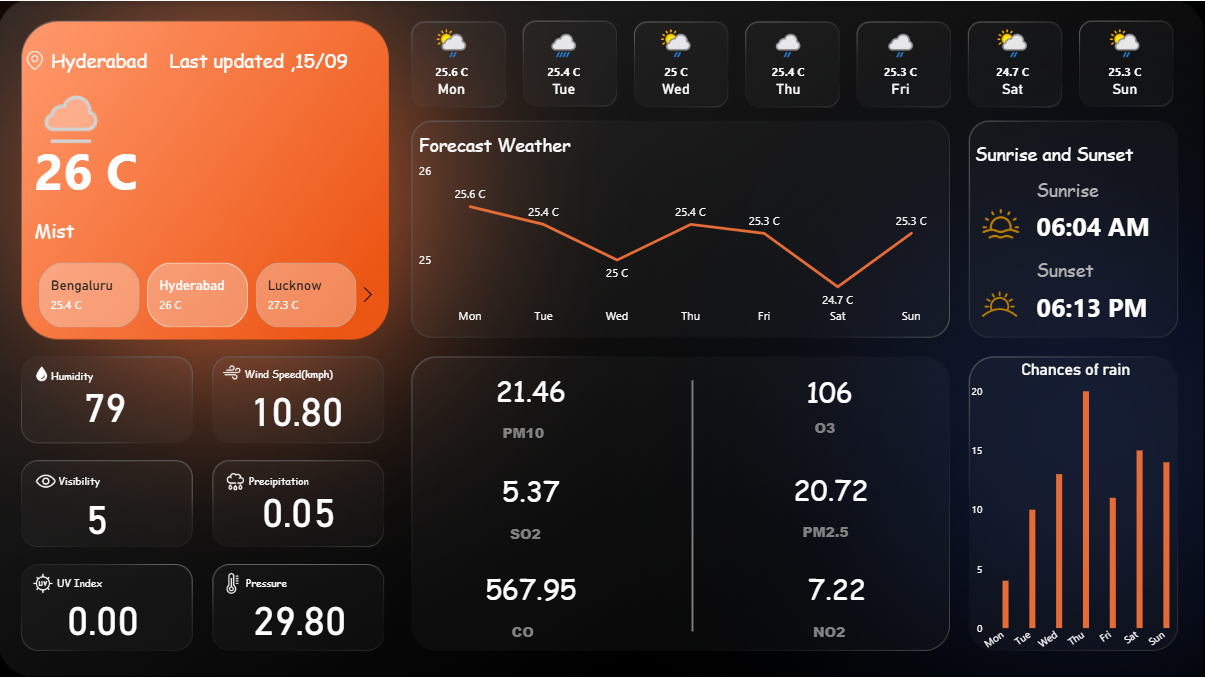

The page's visual inventory and layout, read from the dashboard file:
{"tool":"powerbi","page":{"name":"Page 1","canvas":[1280,720],"ordinal":0},"visuals":[{"type":"advancedSlicerVisual","fields":{"Values":["location.location.name"]},"box":[18.9,272.1,389.3,79.4],"z":0},{"type":"shape","box":[39.7,139.8,281.6,75.6],"z":1000},{"type":"shape","box":[39.7,219.2,360.9,47.2],"z":2000},{"type":"shape","box":[56.7,39.7,126.6,47.2],"z":3000},{"type":"shape","box":[183.3,41.6,224.9,43.5],"z":4000},{"type":"image","box":[13.2,47.2,54.8,30.2],"z":5000},{"type":"cardVisual","fields":{"Data":["Min(current.current.condition.icon)"]},"box":[18.9,62.4,115.3,100.2],"z":6000},{"type":"image","box":[25,491,52,35],"z":7000},{"type":"image","box":[227,493,51,33],"z":8000},{"type":"image","box":[27,382,41,27],"z":9000},{"type":"image","box":[227,379,43,30],"z":10000},{"type":"image","box":[27,601,43,32],"z":11000},{"type":"image","box":[227,601,45,32],"z":12000},{"type":"shape","box":[58,388,91,18],"z":13000},{"type":"shape","box":[262.5,385.5,135.8,20.2],"z":14000},{"type":"shape","box":[264,608,91,18],"z":15000},{"type":"shape","box":[63,608,91,18],"z":16000},{"type":"shape","box":[268,499,91,18],"z":17000},{"type":"shape","box":[66,500,91,18],"z":18000},{"type":"cardVisual","fields":{"Data":["Sum(current.current.humidity)"]},"box":[75,381.7,105,81.7],"z":19000},{"type":"cardVisual","fields":{"Data":["Sum(current.current.uv)"]},"box":[56.7,608.3,128.3,81.7],"z":20000},{"type":"cardVisual","fields":{"Data":["Sum(current.current.pressure_in)"]},"box":[255,608.3,153.3,81.7],"z":21000},{"type":"cardVisual","fields":{"Data":["Sum(current.current.wind_kph)"]},"box":[251.5,387.3,150.5,88.1],"z":22000},{"type":"cardVisual","fields":{"Data":["Sum(current.current.precip_in)"]},"box":[263.3,493.3,168.3,81.7],"z":23000},{"type":"cardVisual","fields":{"Data":["Sum(current.current.vis_km)"]},"box":[75.6,500.8,90.7,81.3],"z":24000},{"type":"advancedSlicerVisual","fields":{"Values":["forcast_day.day_name"]},"box":[421.7,18.3,836.7,90],"z":25000},{"type":"lineChart","title":"Forecast Weather","fields":{"Category":["forcast_day.day_name"],"Y":["Sum(forcast_day.forecast.forecastday.day.avgtemp_c)"]},"box":[442.2,139.8,563.2,211.7],"z":26000},{"type":"shape","box":[1037.5,139.8,224.9,43.5],"z":27000},{"type":"shape","box":[1101.7,219.2,132.3,37.8],"z":28000},{"type":"shape","box":[1101.7,302.4,132.3,43.5],"z":29000},{"type":"shape","box":[1101.7,183.3,96.4,35.9],"z":30000},{"type":"shape","box":[1101.7,266.5,96.4,35.9],"z":31000},{"type":"image","box":[1037.5,211.7,54.8,49.1],"z":32000},{"type":"image","box":[1028,291,71.8,60.5],"z":33000},{"type":"columnChart","title":"   Chances of rain","fields":{"Category":["forcast_day.day_name"],"Y":["_Measures.left_value-rain"]},"box":[1028,379.8,232.4,317.5],"z":34000},{"type":"cardVisual","fields":{"Data":["Sum(current.current.air_quality.co)"]},"box":[493.8,570.9,146.8,97.3],"z":35000},{"type":"cardVisual","fields":{"Data":["Sum(current.current.air_quality.so2)"]},"box":[493.8,468.1,146.8,97.3],"z":36000},{"type":"cardVisual","fields":{"Data":["Sum(current.current.air_quality.pm10)"]},"box":[493.8,361.6,146.8,97.3],"z":37000},{"type":"cardVisual","fields":{"Data":["Sum(current.current.air_quality.no2)"]},"box":[816.8,570.9,146.8,97.3],"z":38000},{"type":"cardVisual","fields":{"Data":["Sum(current.current.air_quality.pm2_5)"]},"box":[811.3,466.2,146.8,97.3],"z":39000},{"type":"cardVisual","fields":{"Data":["Sum(current.current.air_quality.o3)"]},"box":[804,367.1,159.7,86.3],"z":40000},{"type":"shape","box":[864.6,649.8,47.7,36.7],"z":41000},{"type":"shape","box":[545.2,649.8,44.1,36.7],"z":42000},{"type":"shape","box":[853.5,543.3,53.2,38.5],"z":43000},{"type":"shape","box":[543.3,545.2,44.1,38.5],"z":44000},{"type":"shape","box":[866.4,435,44.1,36.7],"z":45000},{"type":"shape","box":[536,438.7,45.9,38.5],"z":46000},{"type":"shape","box":[699.4,402,75.3,266.2],"z":47000}]}

Visuals, with their boxes in screenshot pixels (x1, y1, x2, y2), scaled from the page's 1280x720 canvas onto the 1205x677 screenshot:
advancedSlicerVisual - location.location.name: {"left": 18, "top": 256, "right": 384, "bottom": 331}
shape: {"left": 37, "top": 131, "right": 302, "bottom": 203}
shape: {"left": 37, "top": 206, "right": 377, "bottom": 250}
shape: {"left": 53, "top": 37, "right": 173, "bottom": 82}
shape: {"left": 173, "top": 39, "right": 384, "bottom": 80}
image: {"left": 12, "top": 44, "right": 64, "bottom": 73}
cardVisual - Min(current.current.condition.icon): {"left": 18, "top": 59, "right": 126, "bottom": 153}
image: {"left": 24, "top": 462, "right": 72, "bottom": 495}
image: {"left": 214, "top": 464, "right": 262, "bottom": 495}
image: {"left": 25, "top": 359, "right": 64, "bottom": 385}
image: {"left": 214, "top": 356, "right": 254, "bottom": 385}
image: {"left": 25, "top": 565, "right": 66, "bottom": 595}
image: {"left": 214, "top": 565, "right": 256, "bottom": 595}
shape: {"left": 55, "top": 365, "right": 140, "bottom": 382}
shape: {"left": 247, "top": 362, "right": 375, "bottom": 381}
shape: {"left": 249, "top": 572, "right": 334, "bottom": 589}
shape: {"left": 59, "top": 572, "right": 145, "bottom": 589}
shape: {"left": 252, "top": 469, "right": 338, "bottom": 486}
shape: {"left": 62, "top": 470, "right": 148, "bottom": 487}
cardVisual - Sum(current.current.humidity): {"left": 71, "top": 359, "right": 169, "bottom": 436}
cardVisual - Sum(current.current.uv): {"left": 53, "top": 572, "right": 174, "bottom": 649}
cardVisual - Sum(current.current.pressure_in): {"left": 240, "top": 572, "right": 384, "bottom": 649}
cardVisual - Sum(current.current.wind_kph): {"left": 237, "top": 364, "right": 378, "bottom": 447}
cardVisual - Sum(current.current.precip_in): {"left": 248, "top": 464, "right": 406, "bottom": 541}
cardVisual - Sum(current.current.vis_km): {"left": 71, "top": 471, "right": 157, "bottom": 547}
advancedSlicerVisual - forcast_day.day_name: {"left": 397, "top": 17, "right": 1185, "bottom": 102}
"Forecast Weather" lineChart: {"left": 416, "top": 131, "right": 946, "bottom": 331}
shape: {"left": 977, "top": 131, "right": 1188, "bottom": 172}
shape: {"left": 1037, "top": 206, "right": 1162, "bottom": 242}
shape: {"left": 1037, "top": 284, "right": 1162, "bottom": 325}
shape: {"left": 1037, "top": 172, "right": 1128, "bottom": 206}
shape: {"left": 1037, "top": 251, "right": 1128, "bottom": 284}
image: {"left": 977, "top": 199, "right": 1028, "bottom": 245}
image: {"left": 968, "top": 274, "right": 1035, "bottom": 331}
"   Chances of rain" columnChart: {"left": 968, "top": 357, "right": 1187, "bottom": 656}
cardVisual - Sum(current.current.air_quality.co): {"left": 465, "top": 537, "right": 603, "bottom": 628}
cardVisual - Sum(current.current.air_quality.so2): {"left": 465, "top": 440, "right": 603, "bottom": 532}
cardVisual - Sum(current.current.air_quality.pm10): {"left": 465, "top": 340, "right": 603, "bottom": 431}
cardVisual - Sum(current.current.air_quality.no2): {"left": 769, "top": 537, "right": 907, "bottom": 628}
cardVisual - Sum(current.current.air_quality.pm2_5): {"left": 764, "top": 438, "right": 902, "bottom": 530}
cardVisual - Sum(current.current.air_quality.o3): {"left": 757, "top": 345, "right": 907, "bottom": 426}
shape: {"left": 814, "top": 611, "right": 859, "bottom": 646}
shape: {"left": 513, "top": 611, "right": 555, "bottom": 646}
shape: {"left": 803, "top": 511, "right": 854, "bottom": 547}
shape: {"left": 511, "top": 513, "right": 553, "bottom": 549}
shape: {"left": 816, "top": 409, "right": 857, "bottom": 444}
shape: {"left": 505, "top": 412, "right": 548, "bottom": 449}
shape: {"left": 658, "top": 378, "right": 729, "bottom": 628}
